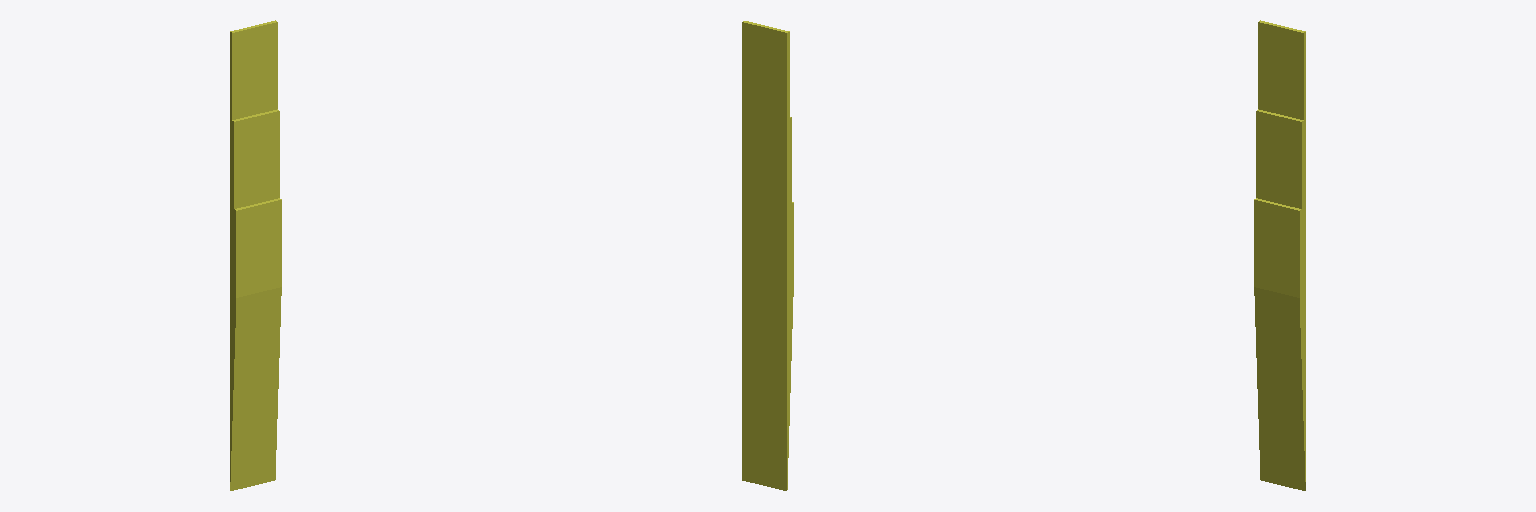
robot.urdf — Part1:
<?xml version="1.0" encoding="utf-8"?>
<!-- This URDF was automatically created by SolidWorks to URDF Exporter! Originally created by [author] ([email redacted]) 
     Commit Version: 1.5.1-0-g916b5db  Build Version: 1.5.7152.31018
     For more information, please see http://wiki.ros.org/sw_urdf_exporter -->
<robot
  name="Part1">
  <link
    name="ramp_5">
    <inertial>
      <origin
        xyz="7.5814E-16 7.67928484115444E-17 -0.005"
        rpy="0 0 0" />
      <mass
        value="500" />
      <inertia
        ixx="180.35"
        ixy="-6.0423E-14"
        ixz="4.7564E-15"
        iyy="450.35"
        iyz="1.08287265732095E-14"
        izz="630" />
    </inertial>
    <visual>
      <origin
        xyz="2.5 0 0"
        rpy="1.5707963267949 0 0" />
      <geometry>
        <mesh
          filename="package://ramp_5/meshes/slope_10_stair_8.stl" scale="1.5 4.602 1.5" />
      </geometry>
      <material
        name="">
        <color
          rgba="0.8 0.8 0.3 1" />
        <texture
          filename="package://ramp_5/textures/" />
      </material>
    </visual>
    <collision>
      <origin
        xyz="2.5 0 0"
        rpy="1.5707963267949 0 0" />
      <geometry>
        <mesh
          filename="package://ramp_5/meshes/slope_10_stair_8.stl"  scale="1.5 4.602 1.5"/>
      </geometry>
    </collision>
  </link>
</robot>

--- Render facts (derived) ---
3 views of the same robot in one strip: view 1: azimuth 30°, elevation 25°; view 2: azimuth 150°, elevation 25°; view 3: azimuth 330°, elevation 25° (orthographic).
Robot: Part1 — 1 links, 0 joints (none); root link ramp_5; default pose: all joints at 0.
Links seen in each view (by area): view 1: ramp_5; view 2: ramp_5; view 3: ramp_5.
Link boxes in pixels (left/top/right/bottom): ramp_5: left=230, top=20, right=281, bottom=490; ramp_5: left=742, top=21, right=793, bottom=490; ramp_5: left=1254, top=20, right=1305, bottom=490.
Size in the robot's own frame: 1500 by 360 by 14547 metres.
Meshes: 1 distinct files referenced, 1 mesh visuals loaded (1 ASCII STL).